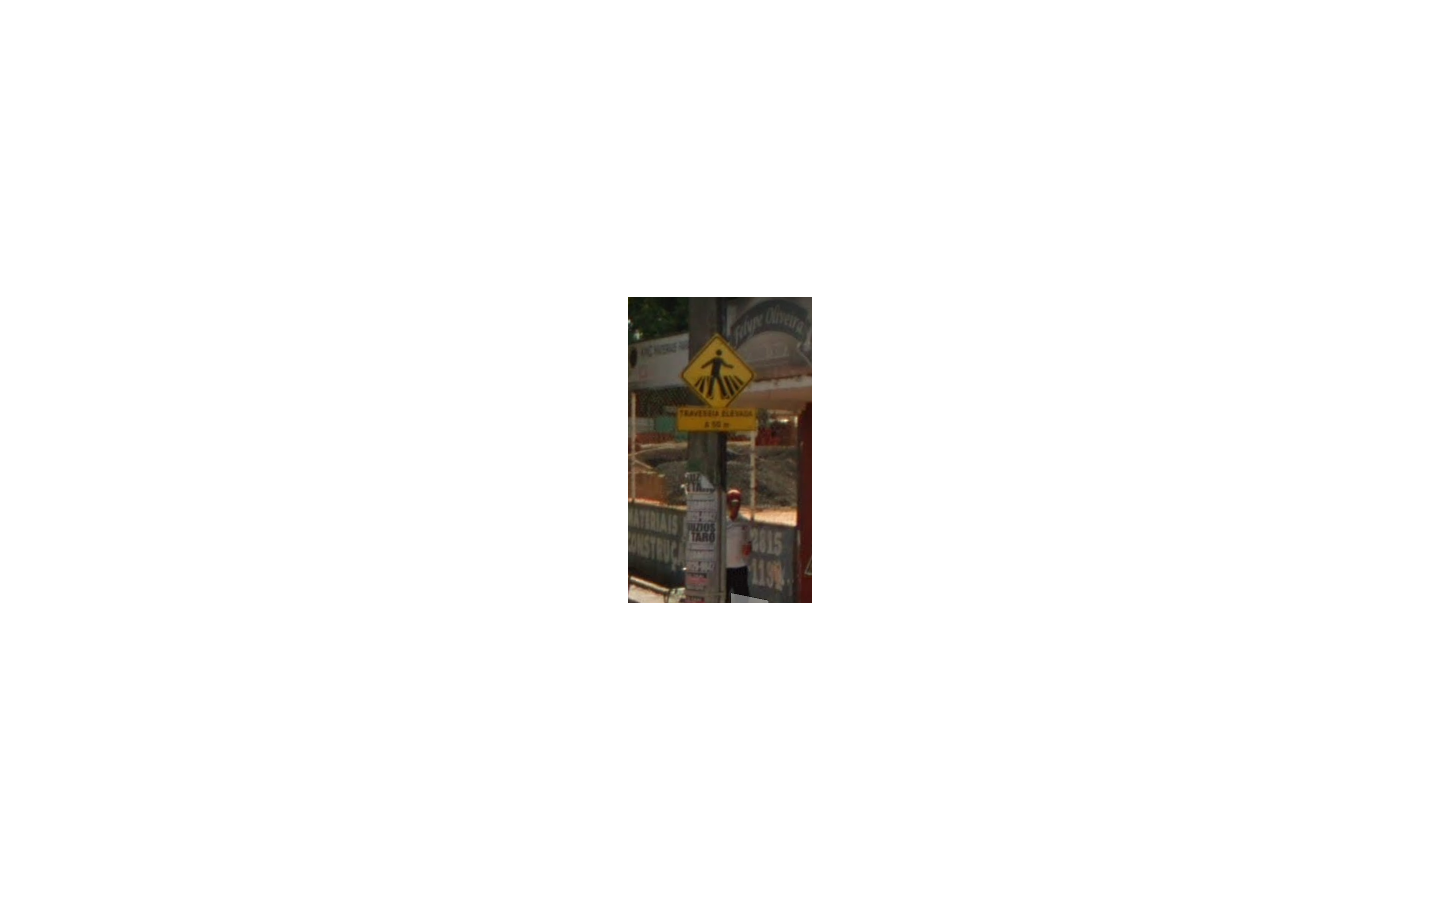t50m: (675, 334, 757, 431)
